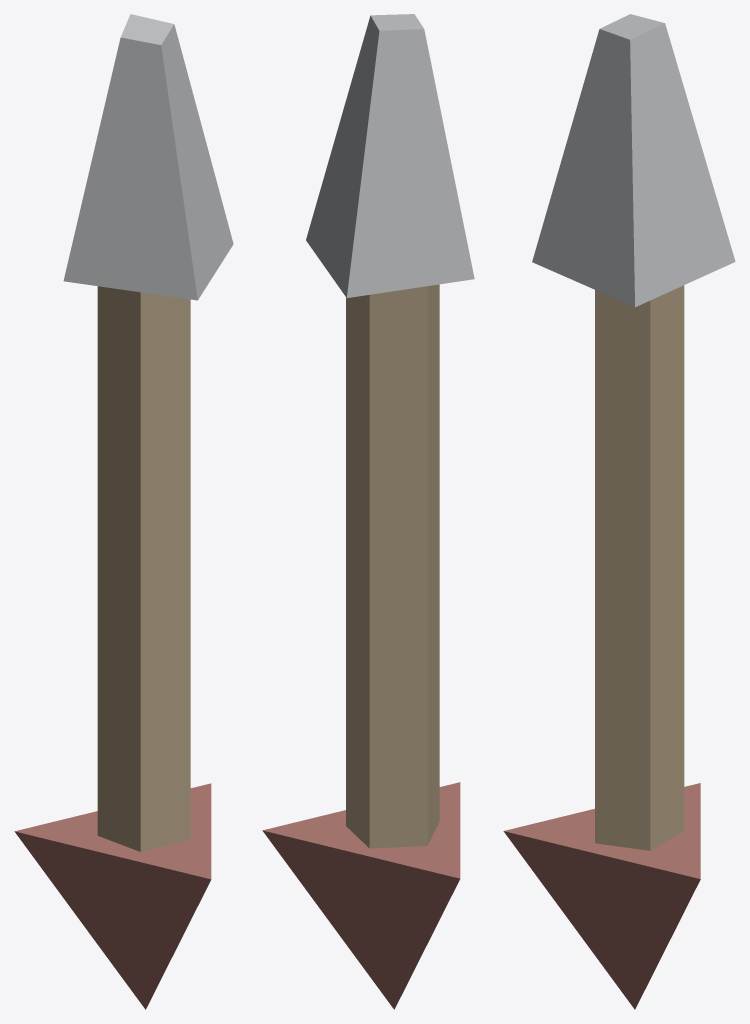
The model's file is dart.glb.
The picture shows the model from 3 angles, left to right: view 1: azimuth 30°, elevation 25°; view 2: azimuth 150°, elevation 25°; view 3: azimuth 270°, elevation 25°; orthographic projection.
Parts seen in each view (by area): view 1: dart; view 2: dart; view 3: dart.
Boxes of the visible parts, left/top/right/bottom form: dart: left=14, top=14, right=233, bottom=1009; dart: left=262, top=14, right=474, bottom=1009; dart: left=503, top=14, right=735, bottom=1009.
Size of the model in its own units: 0.0693 by 0.3309 by 0.0706.
